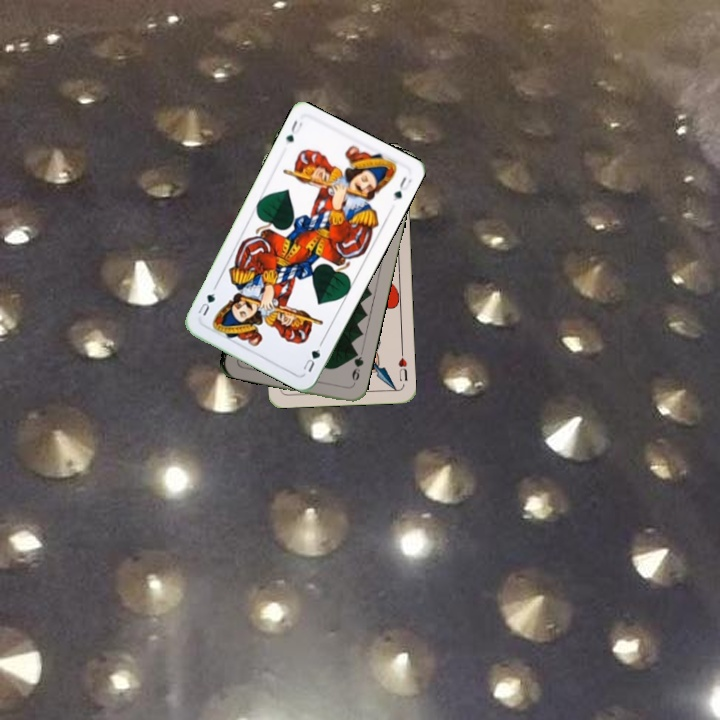G9: (348, 347, 366, 389)
GU: (298, 339, 325, 375), (282, 115, 305, 145)
HU: (394, 347, 410, 383)
